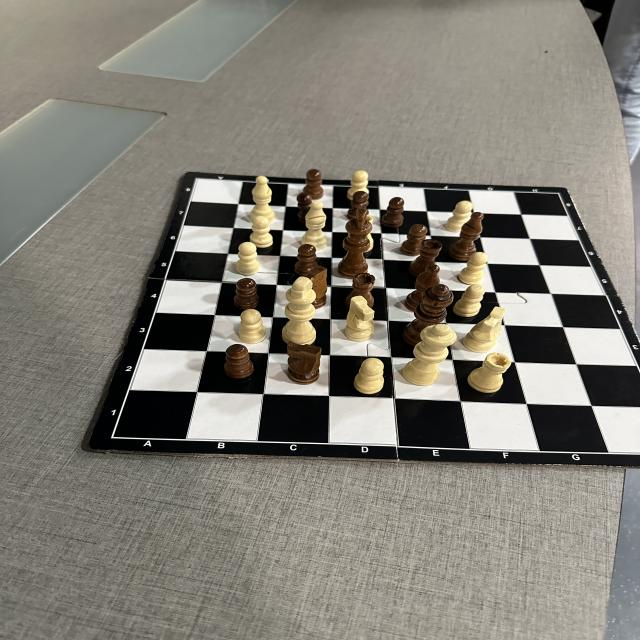Black-Bishop: (448, 212, 484, 261), (404, 264, 440, 312)
Black-King: (338, 208, 372, 279)
Black-Knight: (287, 341, 322, 385), (307, 266, 328, 310)
Black-Pawn: (224, 344, 254, 378), (400, 224, 427, 256), (233, 278, 260, 310), (294, 244, 318, 276), (381, 197, 404, 228), (346, 191, 369, 221), (302, 169, 324, 200), (297, 193, 311, 223)
Black-Queen: (402, 284, 454, 347)
Black-Rook: (408, 239, 442, 277), (344, 272, 376, 310)
White-Bishop: (302, 201, 328, 251), (250, 175, 275, 222)
White-King: (282, 276, 316, 345)
White-Knight: (463, 306, 506, 353), (345, 296, 375, 342)
White-Pawn: (354, 358, 384, 394), (453, 284, 485, 317), (458, 252, 488, 285), (238, 309, 266, 344), (445, 200, 473, 233), (236, 242, 260, 276), (250, 216, 274, 248), (346, 170, 370, 200)
White-Queen: (402, 324, 457, 386)
White-Rook: (467, 352, 510, 394), (366, 215, 374, 223)
